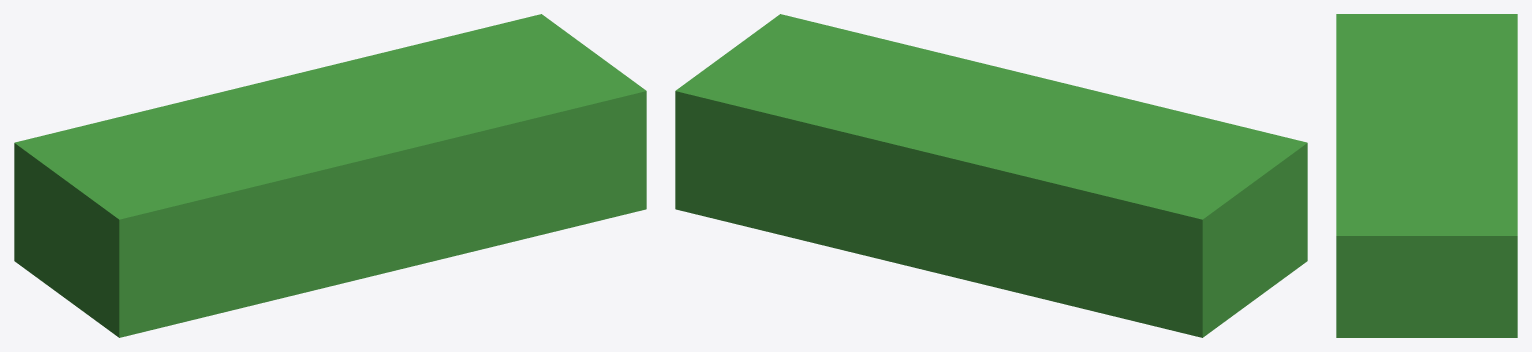
The model's file is parte3_hacha.fbx.
3 renders of one model, left to right at view 1: azimuth 30°, elevation 25°; view 2: azimuth 150°, elevation 25°; view 3: azimuth 270°, elevation 25°, orthographic. The views are drawn at different scales.
Visible parts, largest first — view 1: Zona_4; view 2: Zona_4; view 3: Zona_4.
Part boxes in pixels (x1,y1,x2,y2): Zona_4: [14, 14, 646, 337]; Zona_4: [675, 14, 1307, 337]; Zona_4: [1336, 14, 1517, 337].
Bounding box in the file's own units: 33.01 × 7.07 × 11.4.
